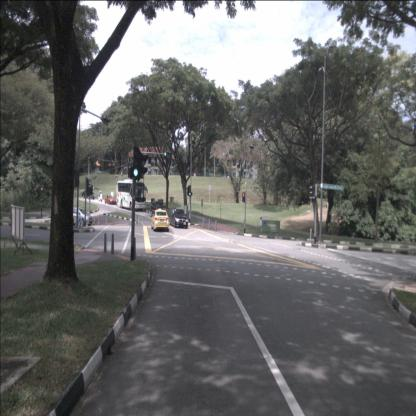vehicle-bus-rigid: (116, 179, 146, 211)
vehicle-car: (66, 207, 92, 227), (168, 208, 188, 229), (151, 210, 169, 232), (150, 201, 166, 218), (82, 190, 95, 200), (104, 195, 116, 205)
vehicle-motorcycle: (98, 190, 103, 202)
